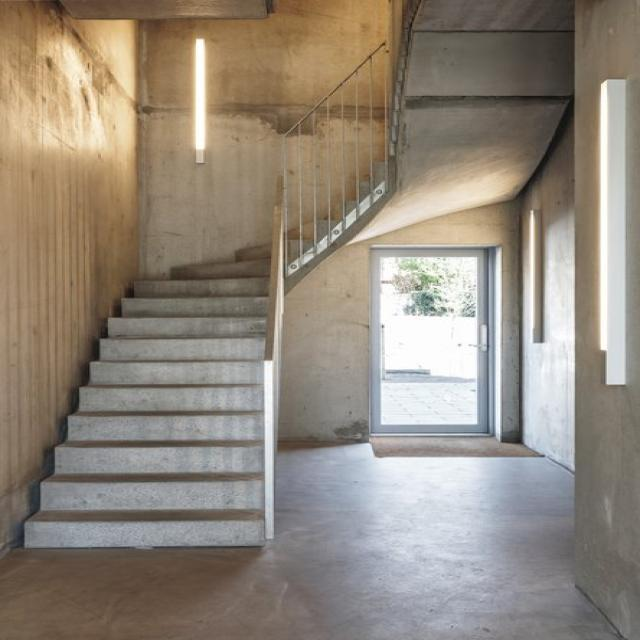stairs: (22, 235, 278, 550)
